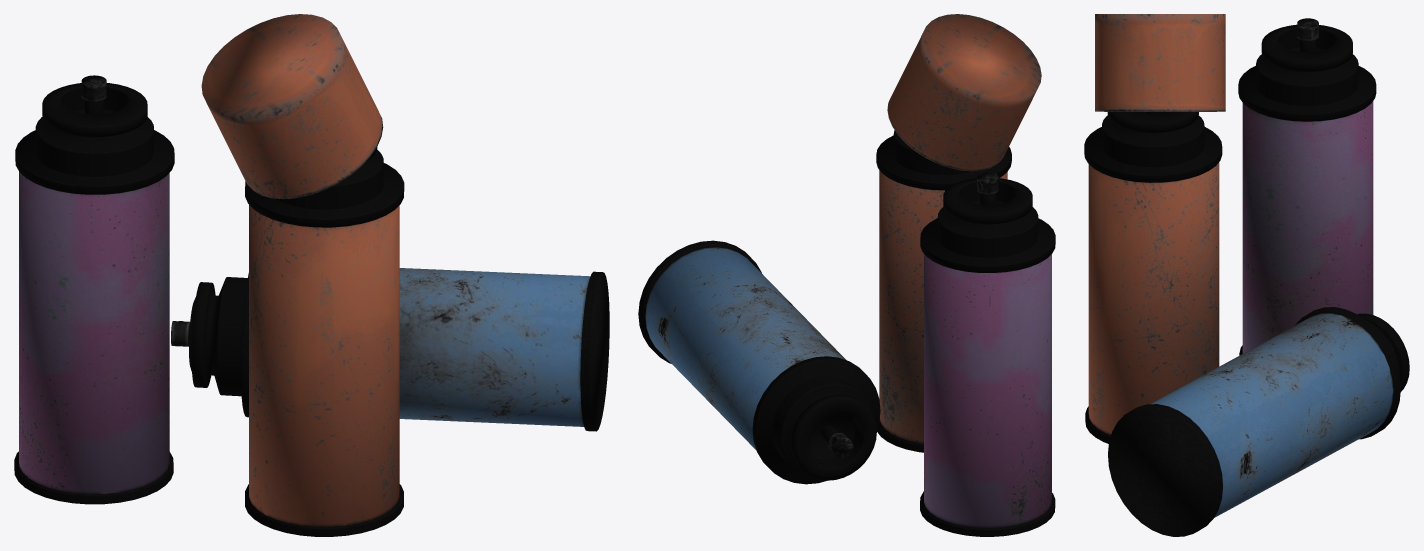
File: Latas_spray.glb
The picture shows the model from 3 angles, left to right: view 1: azimuth 30°, elevation 25°; view 2: azimuth 150°, elevation 25°; view 3: azimuth 270°, elevation 25°; orthographic projection. The views are drawn at different scales.
Parts seen in each view (by area): view 1: Object_2; view 2: Object_2; view 3: Object_2.
Boxes of the visible parts, x1,y1,x2,y2 form: Object_2: [14, 14, 609, 536]; Object_2: [638, 14, 1055, 536]; Object_2: [1084, 14, 1409, 536].
Size of the model in its own units: 3.51 by 3 by 2.15.
1 material, 1 textured.
